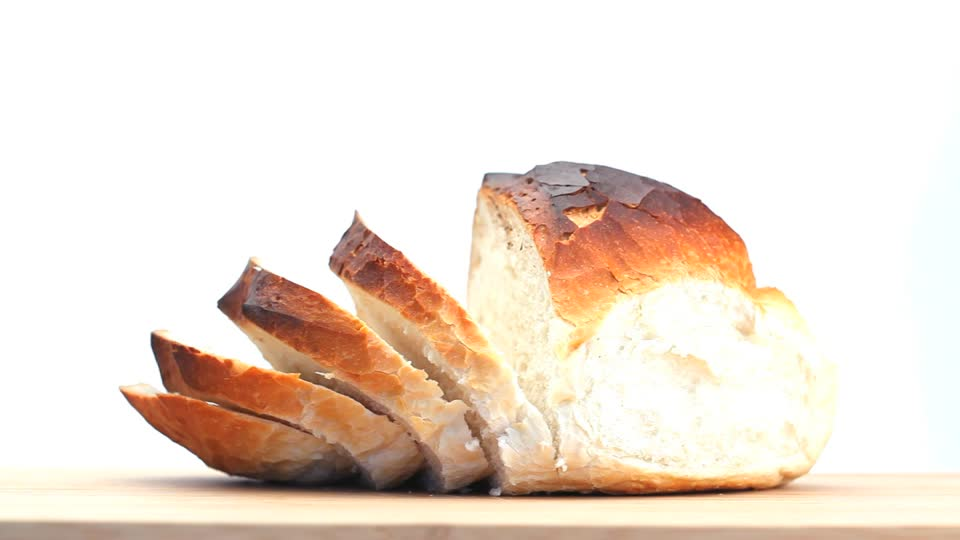slice of bread: (465, 161, 832, 497), (116, 239, 465, 504), (327, 196, 572, 511)
